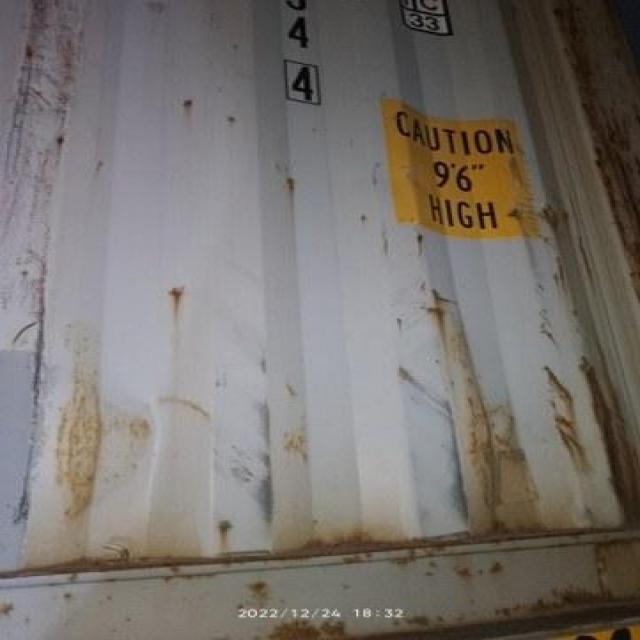Rust: (589, 359, 640, 505)
